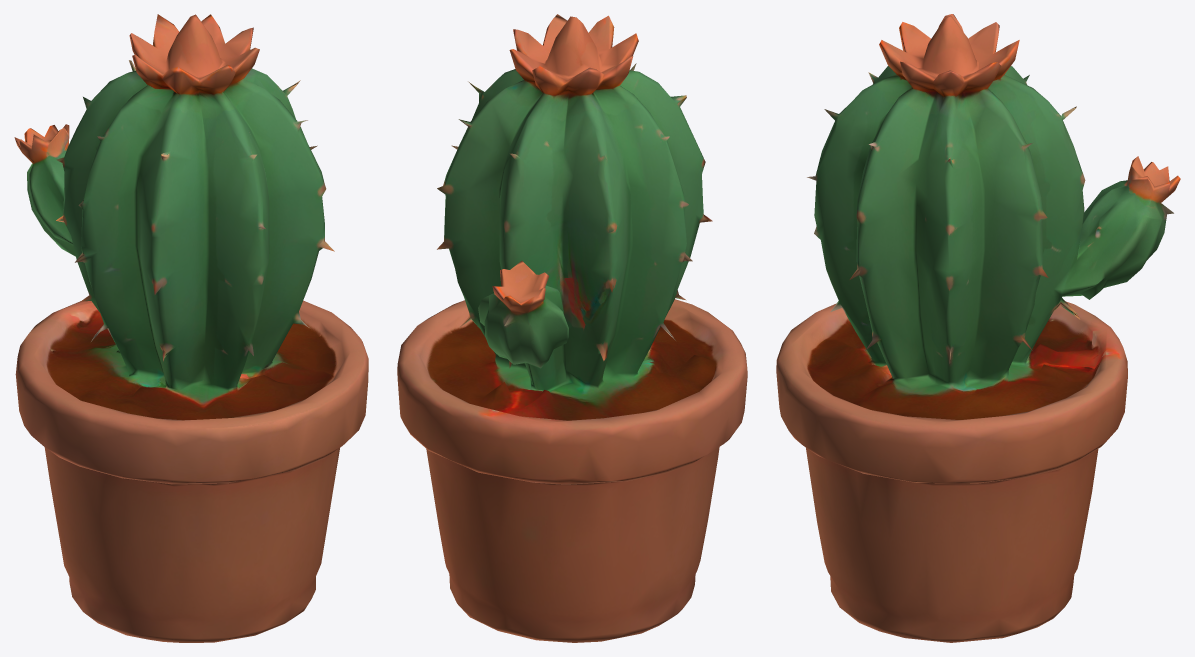
File: cactus-1.glb
3 views of the same model, side by side, from view 1: azimuth 30°, elevation 25°; view 2: azimuth 150°, elevation 25°; view 3: azimuth 270°, elevation 25° (orthographic).
Visible parts, largest first — view 1: tripo_node_9a9bc2e5-4248-4291-a09e-44cf97f1c975; view 2: tripo_node_9a9bc2e5-4248-4291-a09e-44cf97f1c975; view 3: tripo_node_9a9bc2e5-4248-4291-a09e-44cf97f1c975.
Part boxes in pixels (x1=…): tripo_node_9a9bc2e5-4248-4291-a09e-44cf97f1c975: x1=14, y1=14, x2=368, y2=642; tripo_node_9a9bc2e5-4248-4291-a09e-44cf97f1c975: x1=397, y1=14, x2=747, y2=642; tripo_node_9a9bc2e5-4248-4291-a09e-44cf97f1c975: x1=776, y1=14, x2=1180, y2=642.
Size of the model in its own units: 0.5187 by 0.9469 by 0.5976.
1 material, 1 textured.
